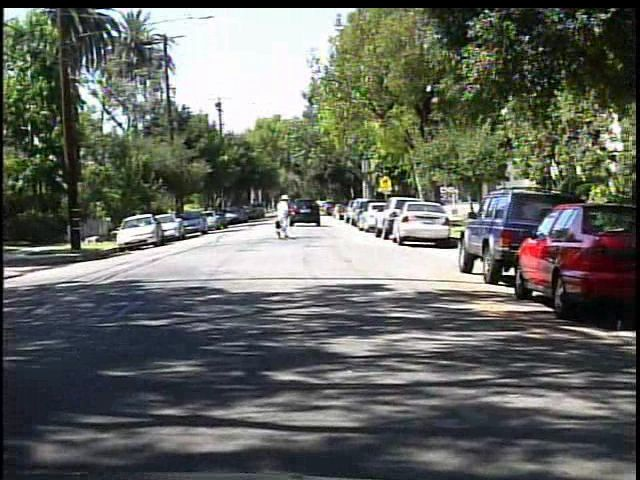person: (270, 193, 298, 243)
